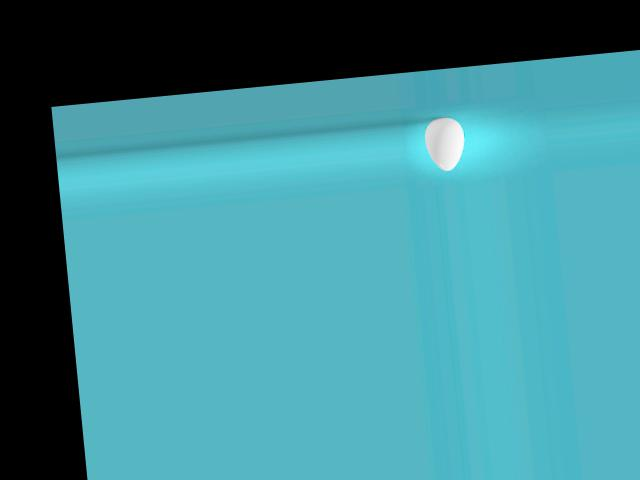egg: (422, 115, 466, 172)
